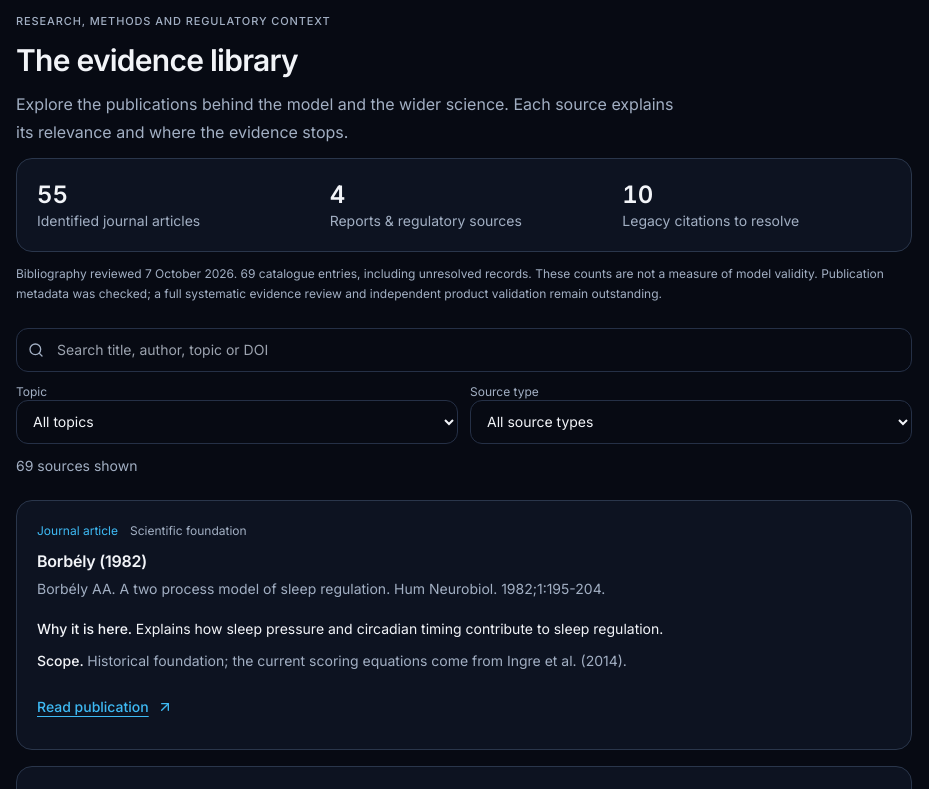
Test: evidence library › searches accented authors and DOI, combines filters, and recovers from no matches
Type "Borbely 1982" into the search field named "Search evidence" at (464, 350), box top-left (16, 328), bottom-right (912, 372)
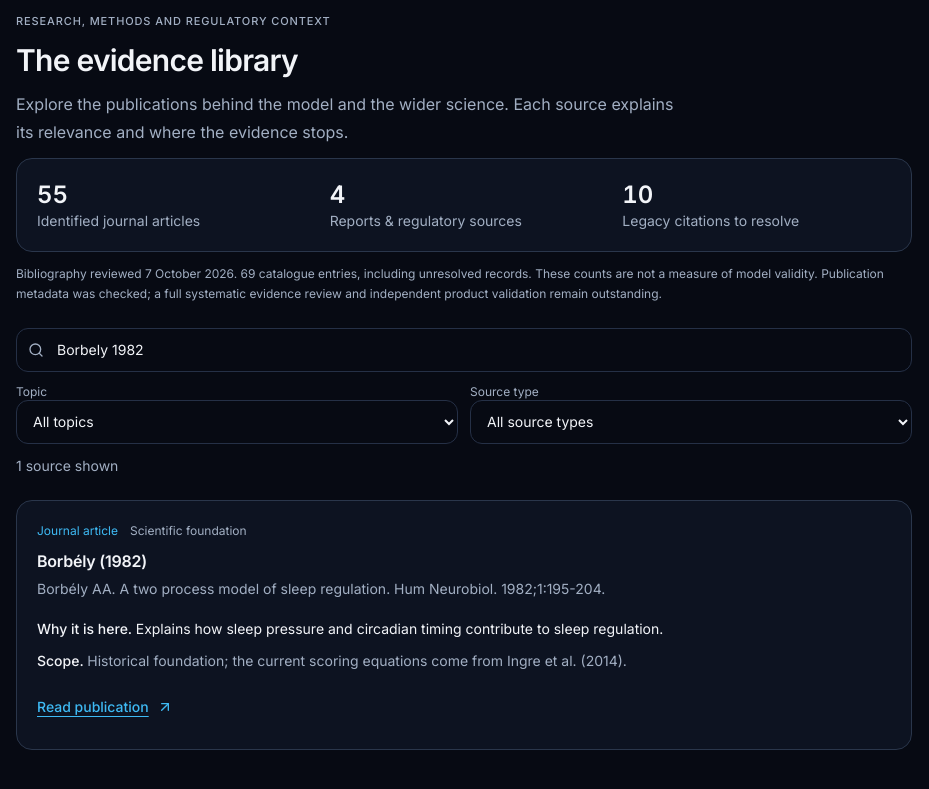
Expected: the heading "Borbély (1982)" is shown, top-left (37, 550), bottom-right (147, 570)
Result: the message reads "1 source shown" at top-left (16, 456), bottom-right (118, 474)
Replace the text in the search field named "Search evidence" with "10.1093/sleepadvances/zpaf002" at (464, 350), box top-left (16, 328), bottom-right (912, 372)
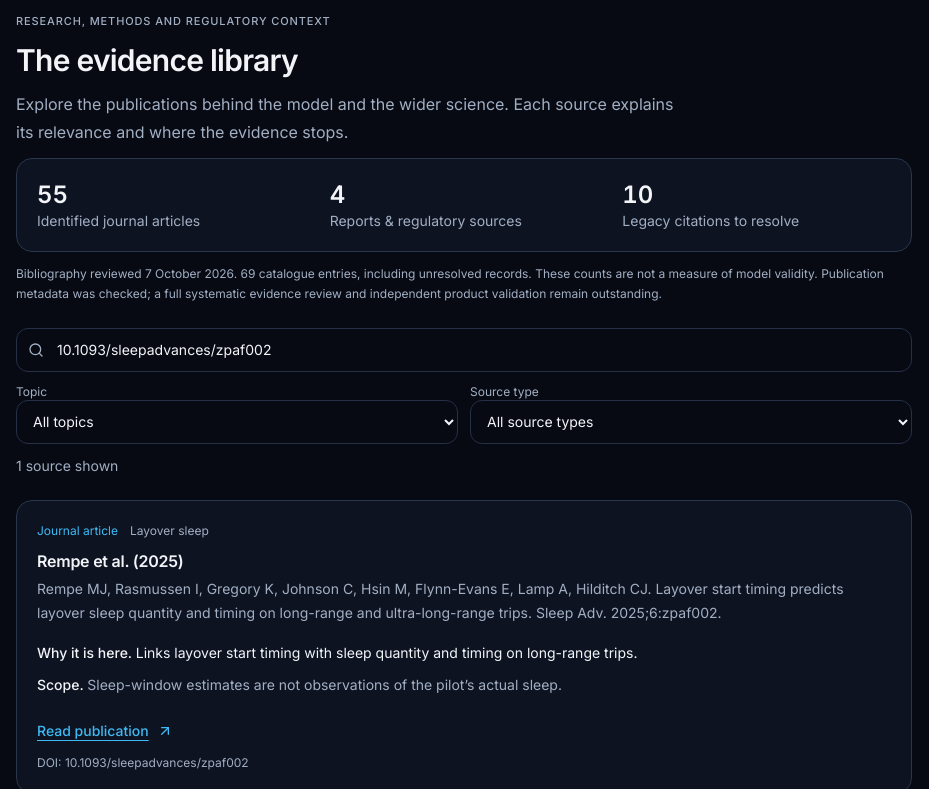
Result: the heading "Rempe et al. (2025)" is shown at top-left (37, 550), bottom-right (184, 570)
Select "Regulation & guidance" in the dropdown labelled "Source type" at (691, 422), box top-left (470, 400), bottom-right (912, 444)
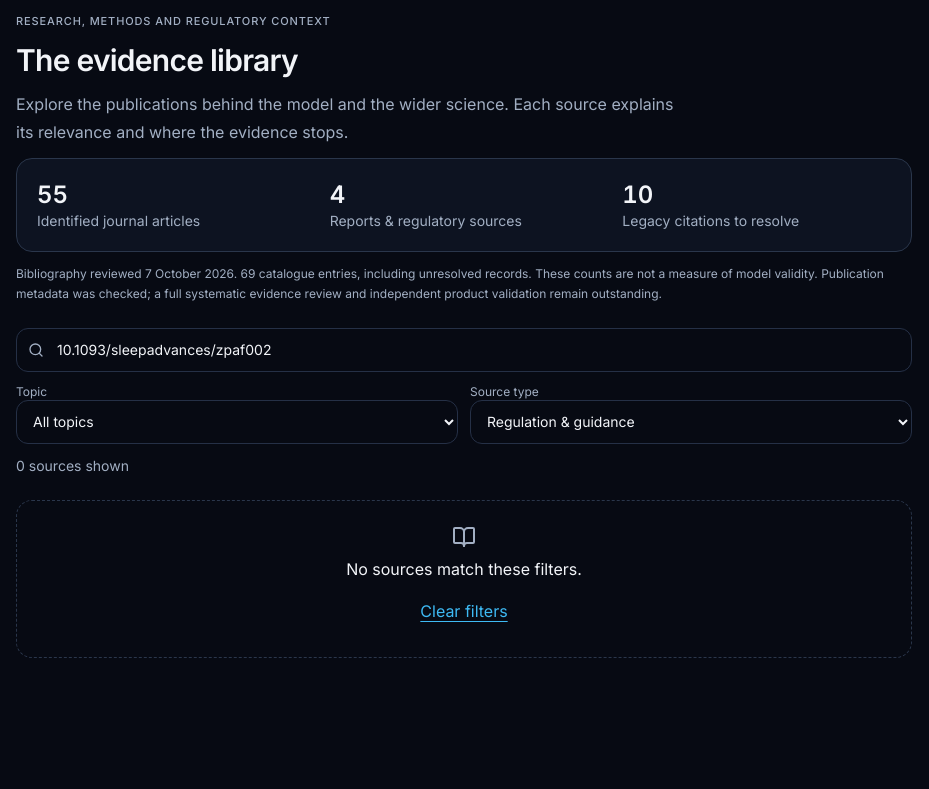
Result: the text "No sources match these filters." is shown at top-left (346, 558), bottom-right (582, 578)
Click the button "Clear filters" at (464, 610), box top-left (420, 588), bottom-right (508, 632)
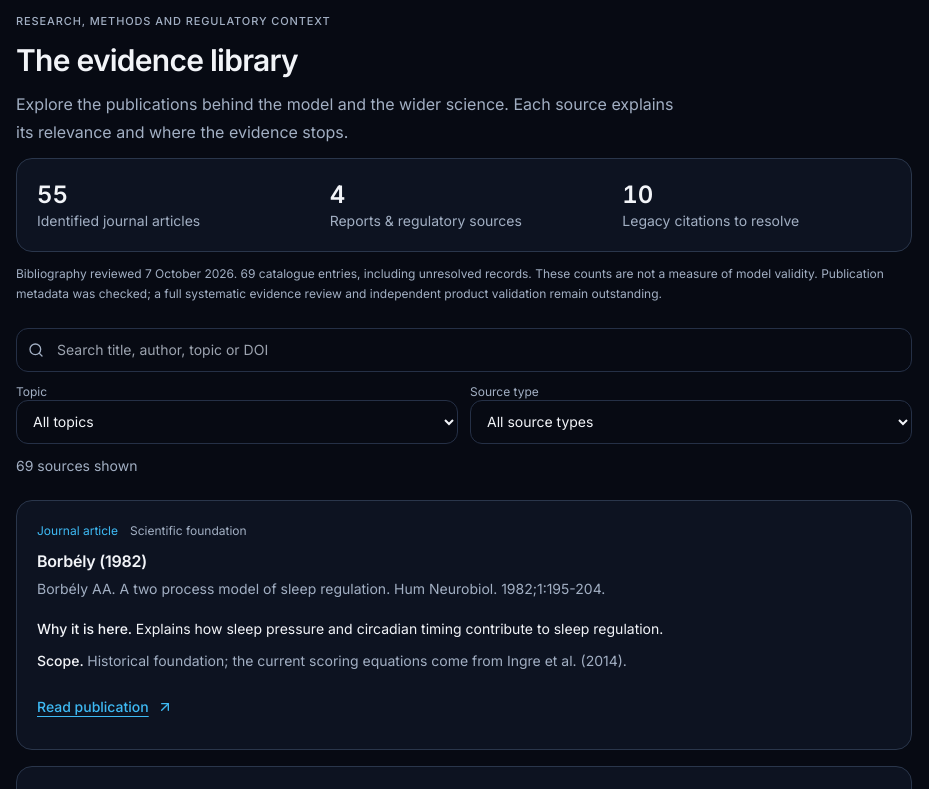
Result: the search field named "Search evidence" is empty at top-left (16, 328), bottom-right (912, 372)
